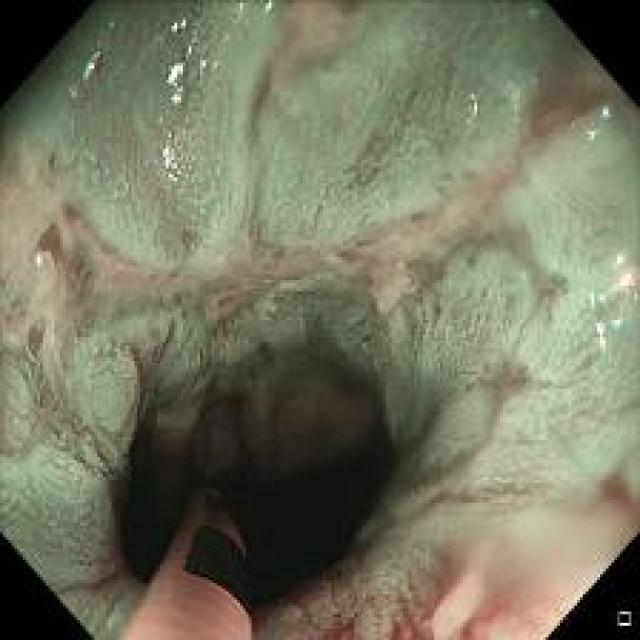blur: (489, 442, 632, 610), (469, 106, 611, 208)
color misalignment: (158, 126, 191, 191), (162, 45, 196, 102), (168, 20, 216, 45), (80, 42, 106, 81), (596, 96, 618, 124)
contrast: (115, 351, 412, 616)
instrument: (124, 481, 264, 636)
specularity: (586, 284, 626, 346), (160, 130, 186, 186), (605, 250, 634, 290), (76, 44, 105, 80), (25, 244, 51, 274), (462, 89, 482, 126), (164, 55, 185, 89), (196, 55, 225, 79), (256, 1, 282, 21), (585, 128, 599, 146)
